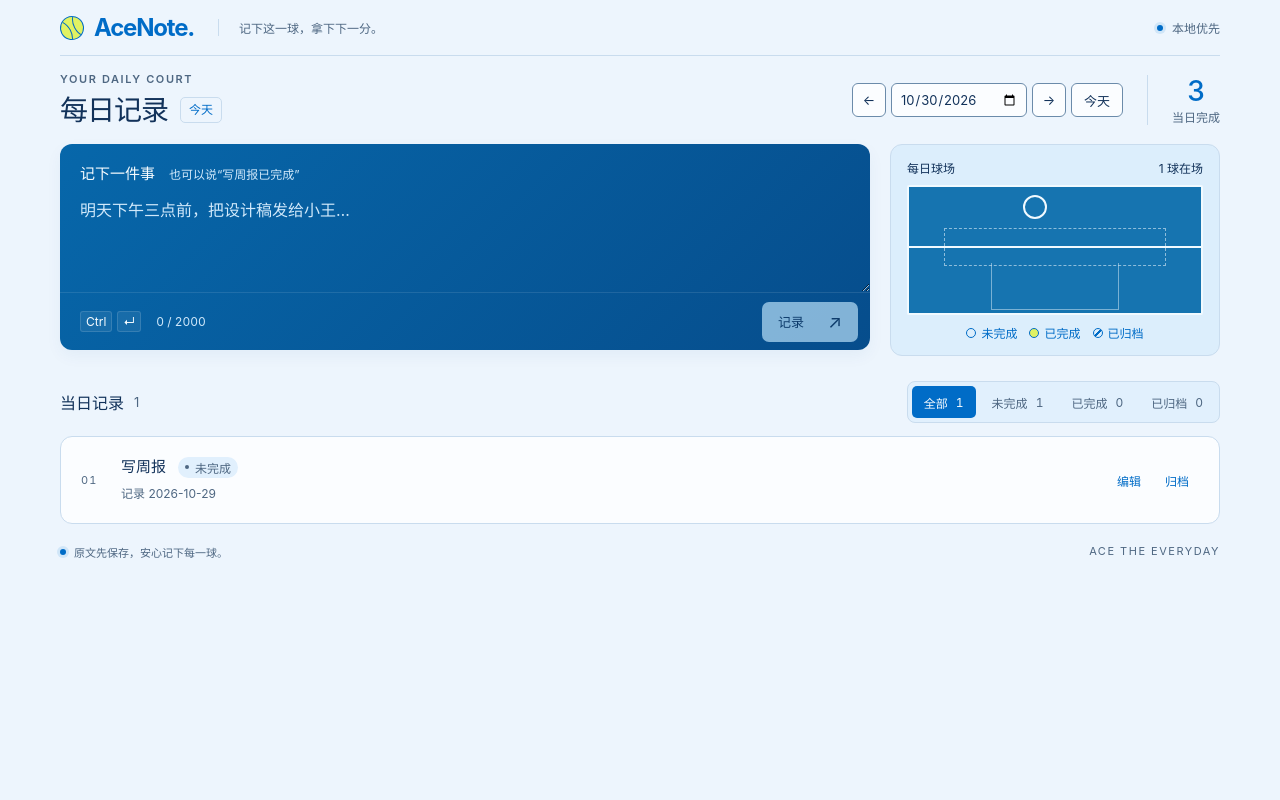
it: UI polish behavior › reports retry failures while preserving the intake and draft
Type "保留这句话" into the text box named "待办或完成指令" at {"x": 465, "y": 238}, box [60,183,870,292]
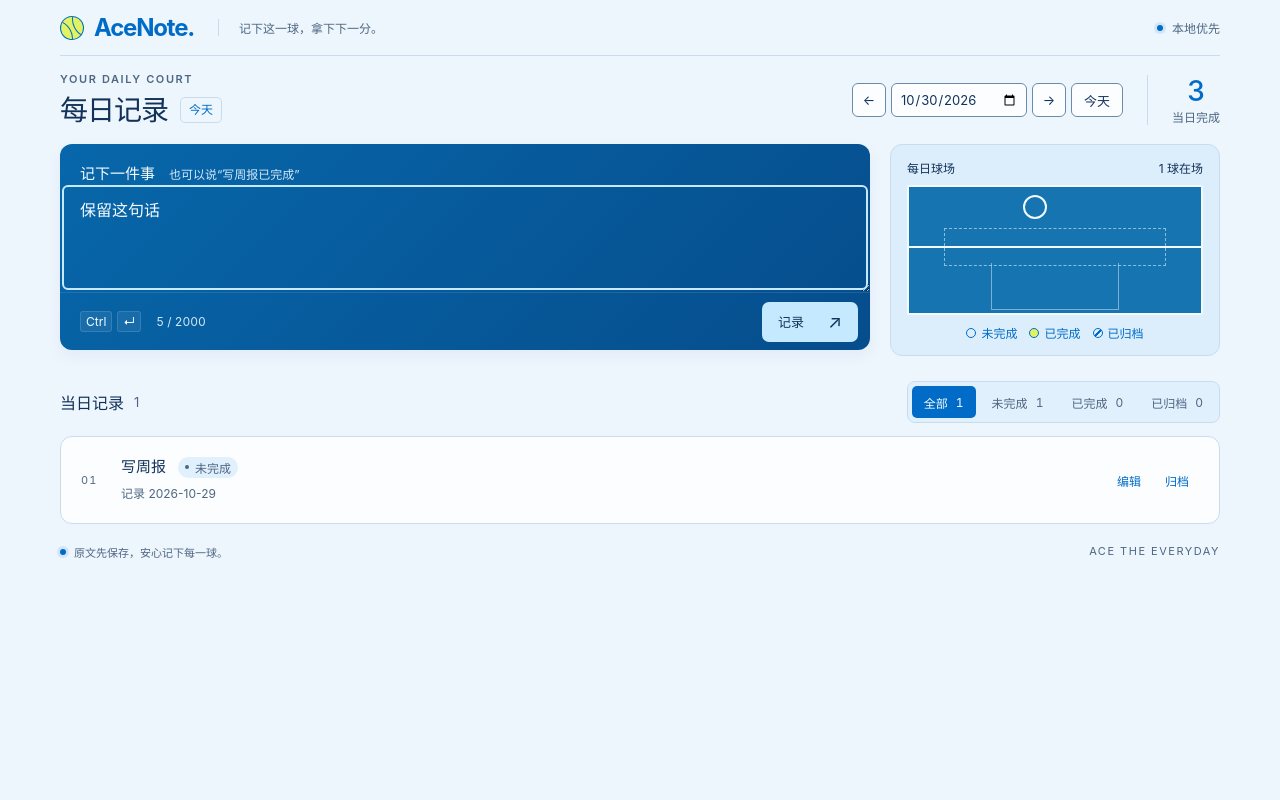
Click the button "记录 ↗" at {"x": 810, "y": 322}, box [762,302,858,342]
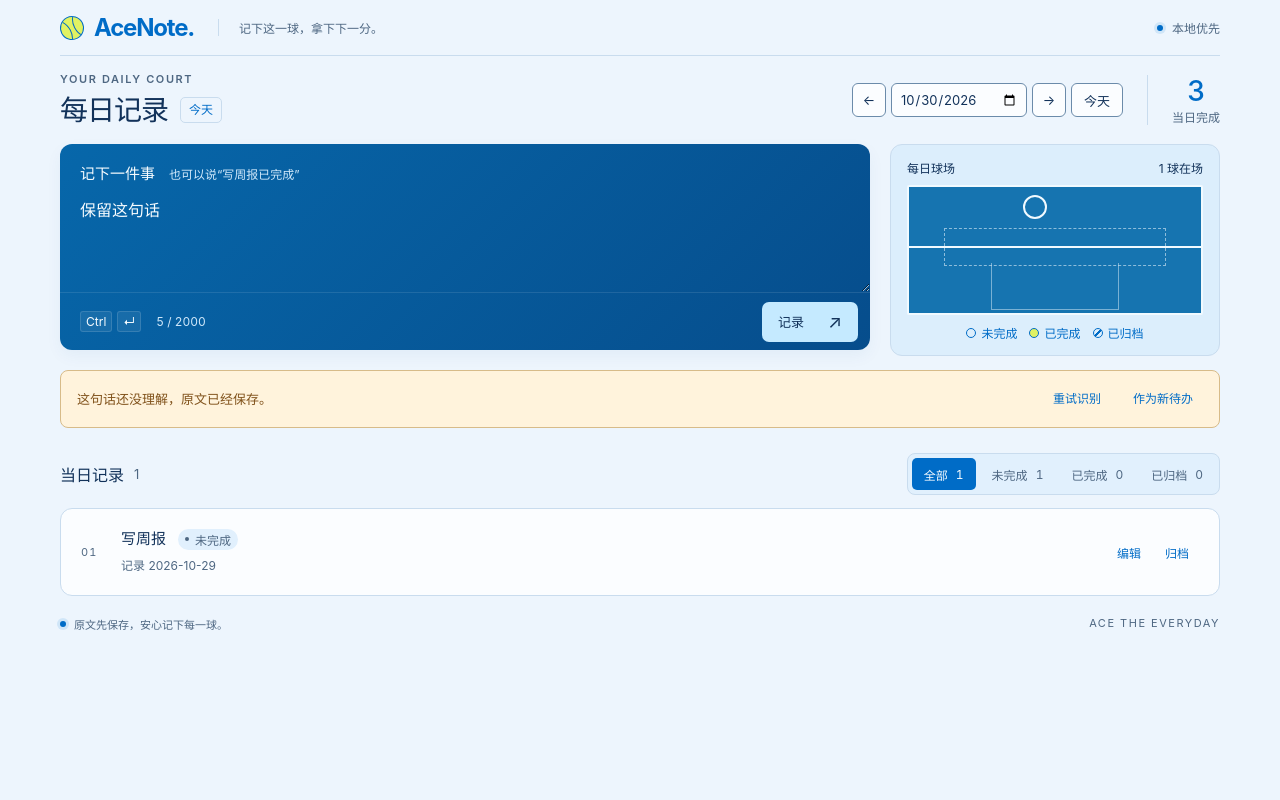
Click the button "重试识别" at {"x": 1077, "y": 399}, box [1043,383,1111,415]
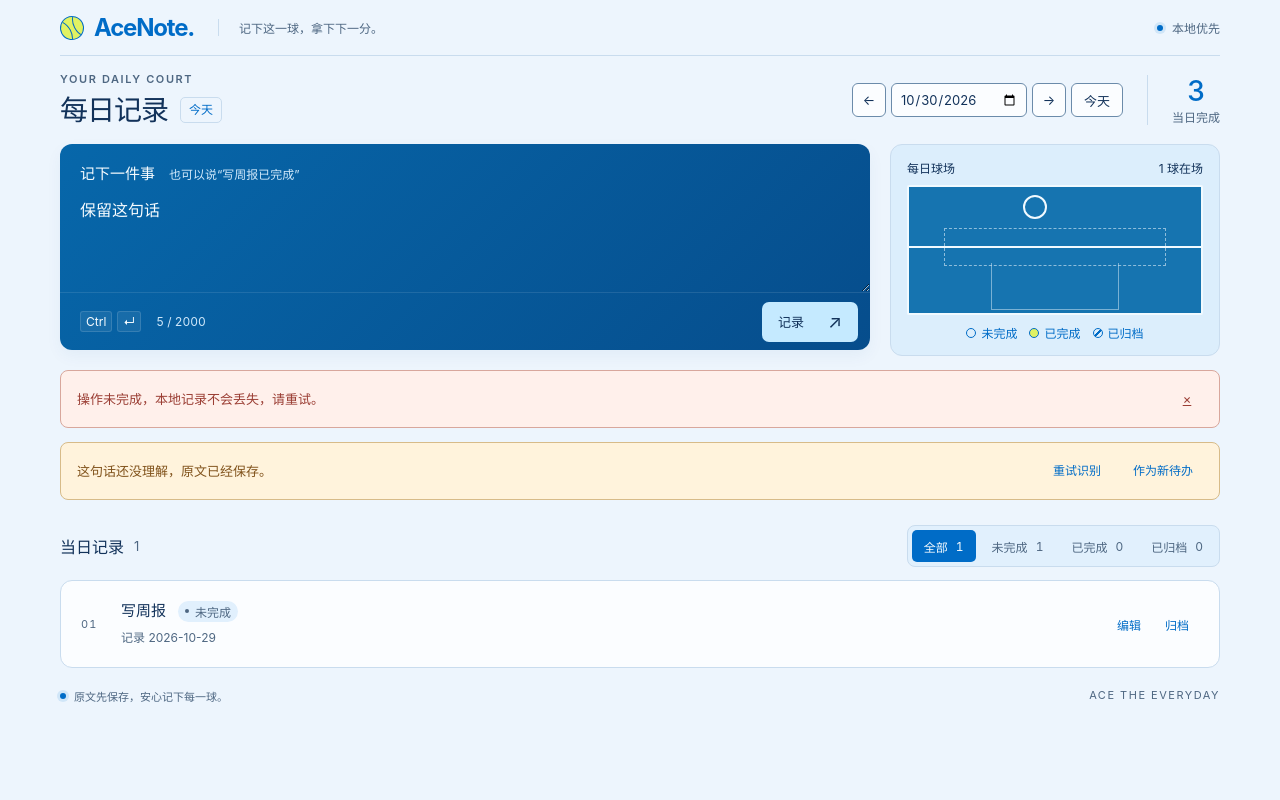
Expected: the message shows "操作未完成", [77,391,324,407]
